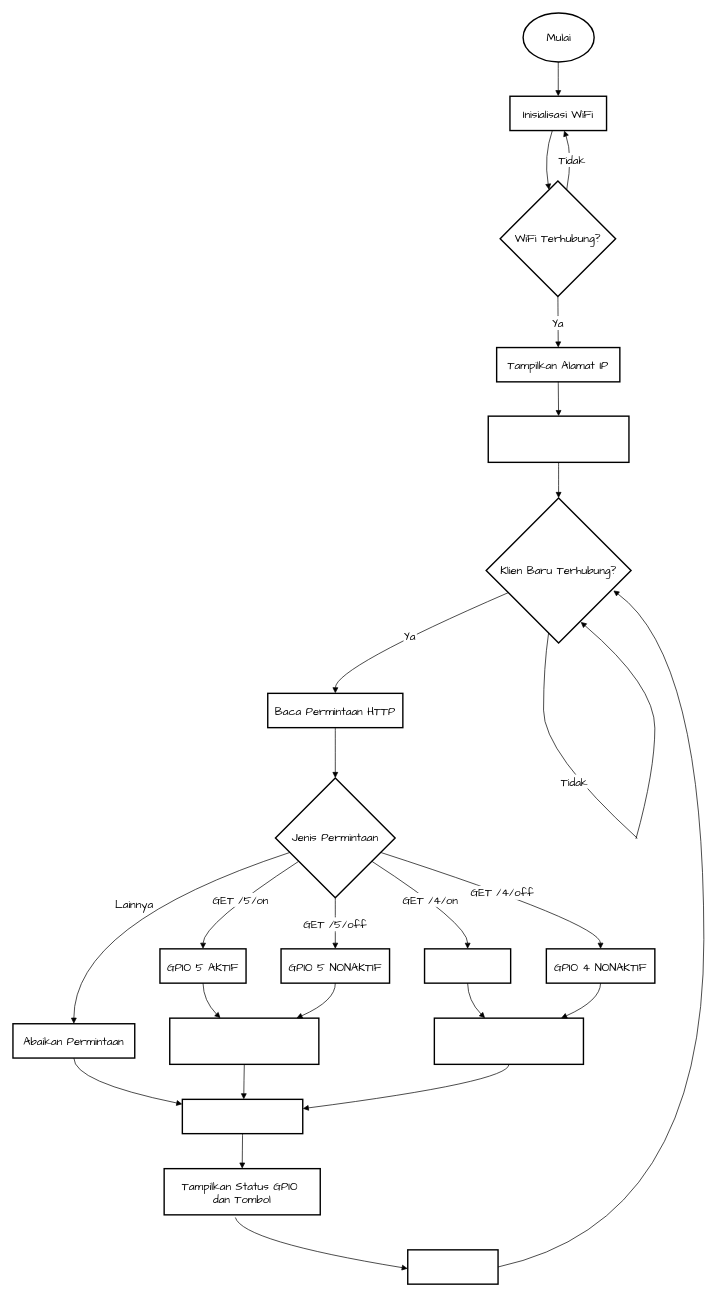
The diagram is 716 pixels wide and 1296 high, and some of its shapes have lost their labels. Each missing label, with the box of its shape:
GPIO 4 AKTIF: (424, 948, 511, 983)
Inisialisasi GPIO sebagai OUTPUT: (487, 415, 629, 463)
Kirim Respons HTTP: (181, 1098, 303, 1134)
Perbarui Status GPIO 4 ke NONAKTIF: (433, 1017, 584, 1065)
Perbarui Status GPIO 5 ke NONAKTIF: (169, 1017, 319, 1065)
Tutup Koneksi: (407, 1249, 498, 1284)
